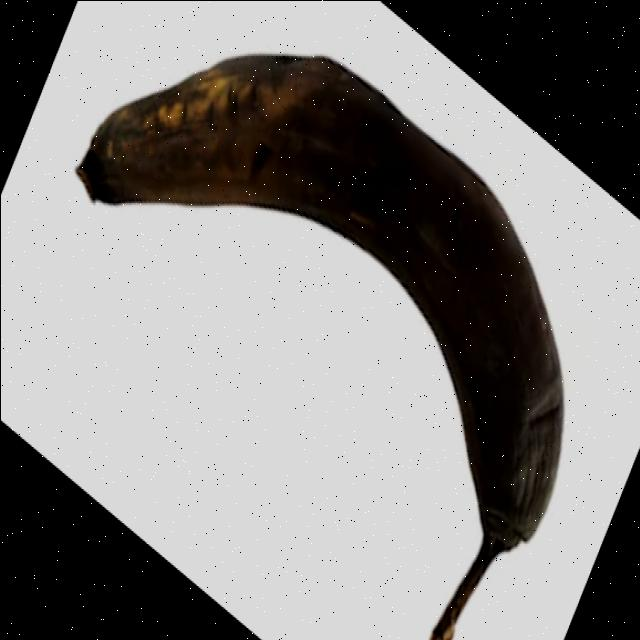Rotten: (76, 52, 563, 640)
